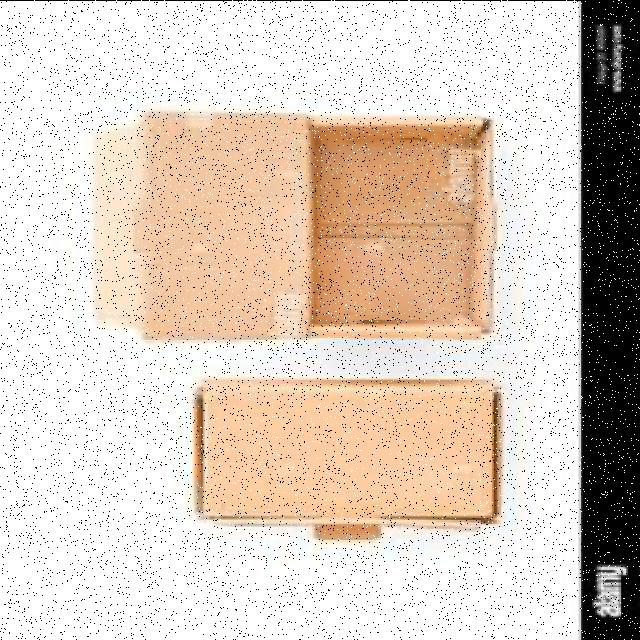normal: (188, 369, 504, 523)
